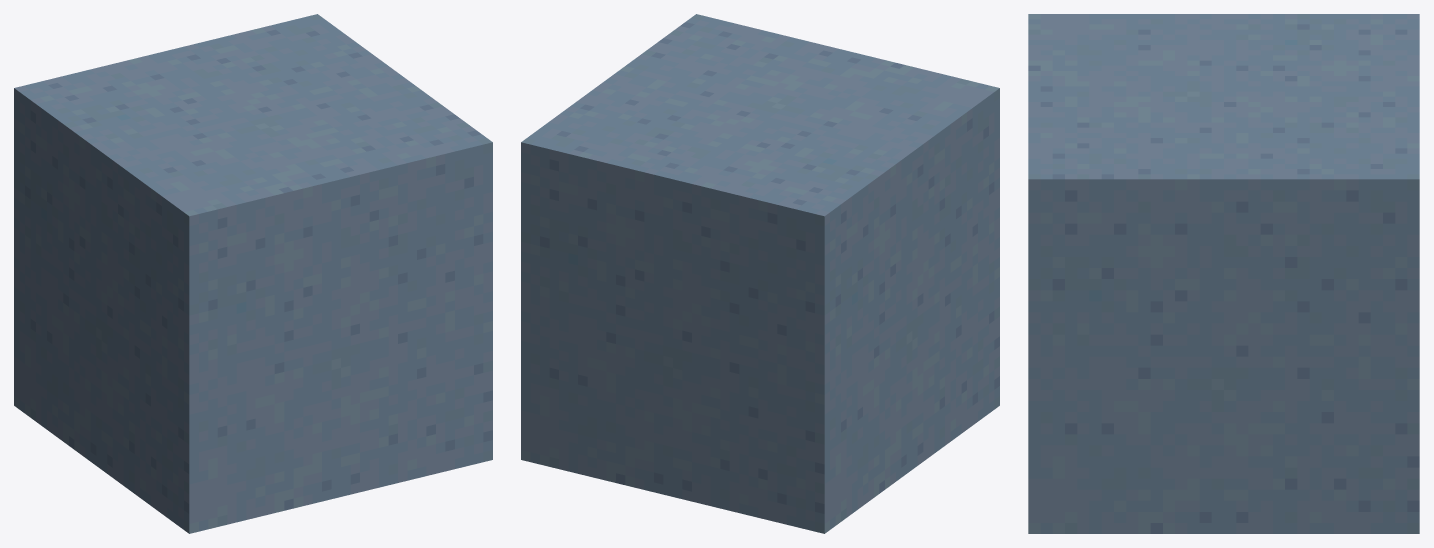
The model's file is water.cube.glb.
3 renders of one model, left to right at view 1: azimuth 30°, elevation 25°; view 2: azimuth 150°, elevation 25°; view 3: azimuth 270°, elevation 25°, orthographic. The views are drawn at different scales.
Bounding box in the file's own units: 1 × 1 × 1.
